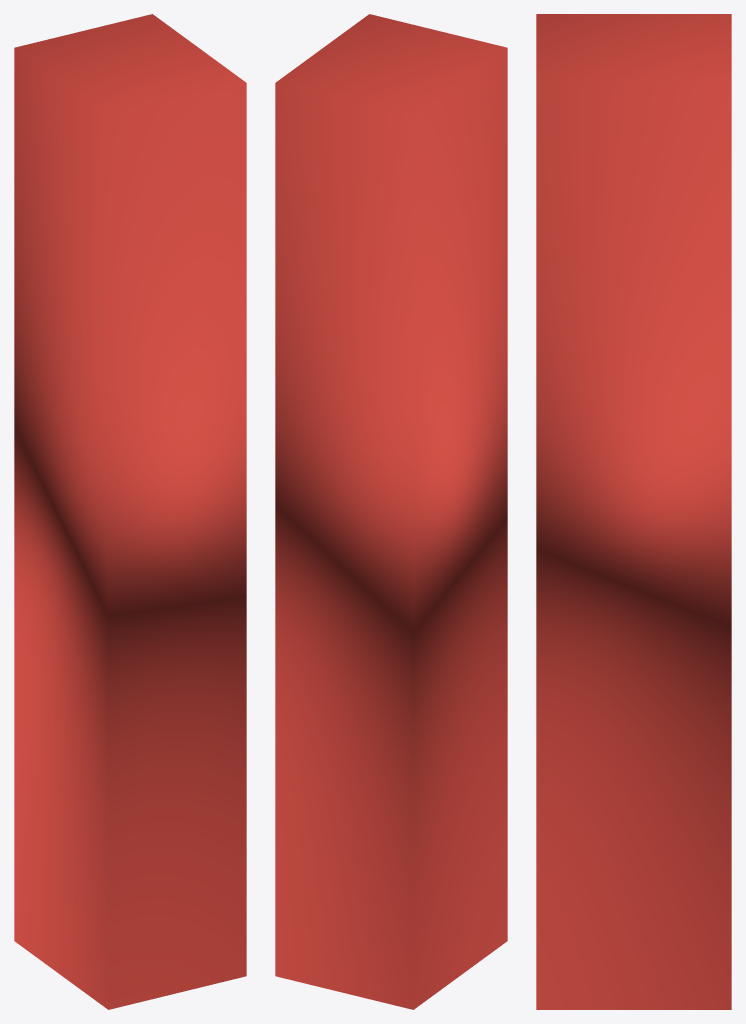
File: quantized-split-surface.glb
3 renders of one model, left to right at view 1: azimuth 30°, elevation 25°; view 2: azimuth 150°, elevation 25°; view 3: azimuth 270°, elevation 25°, orthographic. The views are drawn at different scales.
Parts seen in each view (by area): view 1: total:aorta; view 2: total:aorta; view 3: total:aorta.
Part boxes in pixels (box(x1,y1,x2,y2)): total:aorta: box(14, 14, 246, 1009); total:aorta: box(275, 14, 507, 1009); total:aorta: box(536, 14, 731, 1009).
Size of the model in its own units: 0.0259 by 0.1601 by 0.0305.
